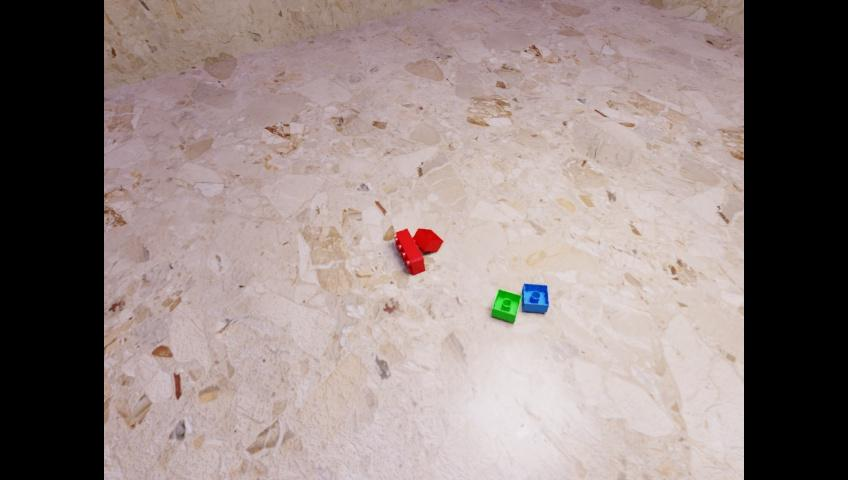2x2_blue: (521, 283, 548, 313)
2x2_green: (491, 288, 520, 322)
2x2_red: (412, 227, 443, 251)
4x2_red: (394, 229, 424, 277)
